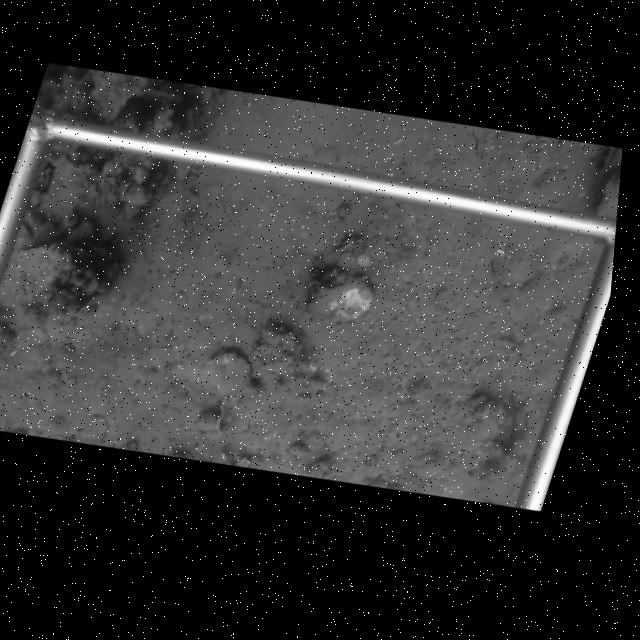Oyster-Indeterminate: (303, 269, 380, 322), (198, 348, 253, 392)
Oyster-Open: (185, 102, 203, 133)
